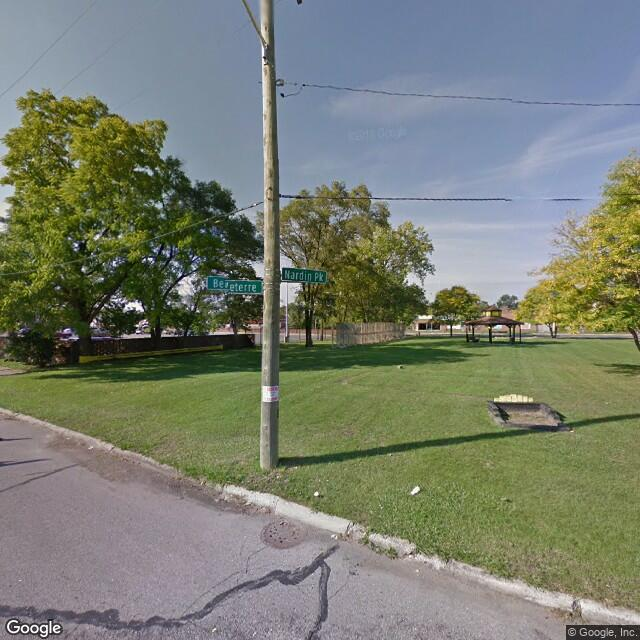litter: (410, 483, 421, 496), (330, 531, 340, 540), (313, 489, 322, 498), (88, 444, 96, 450)
